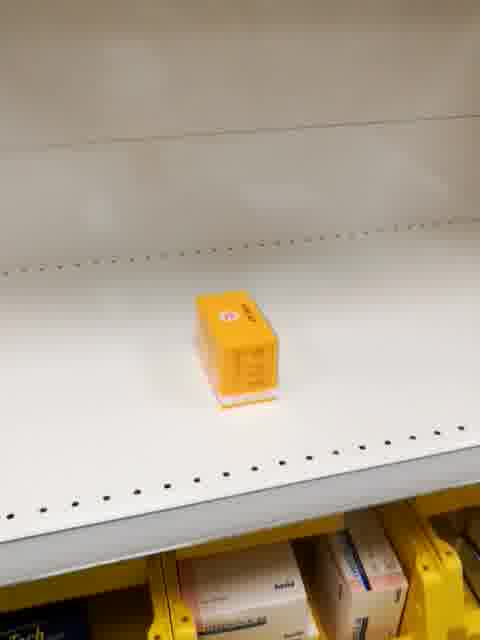jasminetea: (195, 291, 280, 411)
